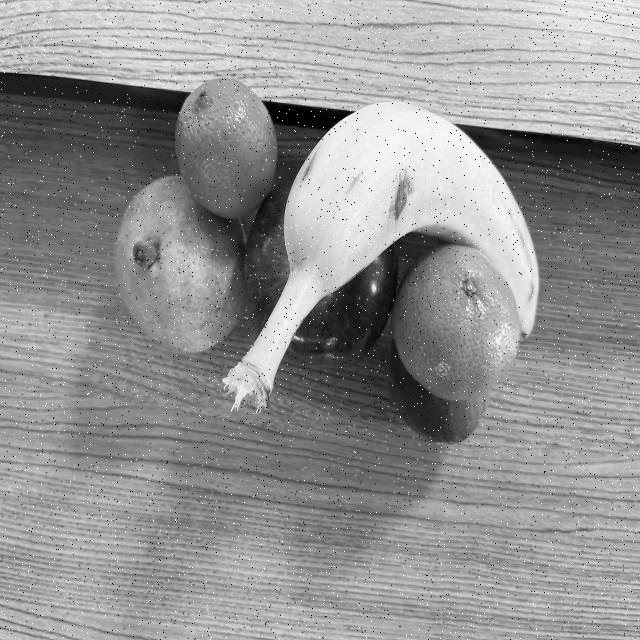Apel Merah: (238, 173, 400, 374)
Jeruk Mandarin: (389, 238, 523, 392)
Lemon: (172, 74, 280, 222)
Persik: (388, 310, 492, 447)
Pir: (113, 171, 251, 359)
Pisang: (218, 98, 542, 424)
